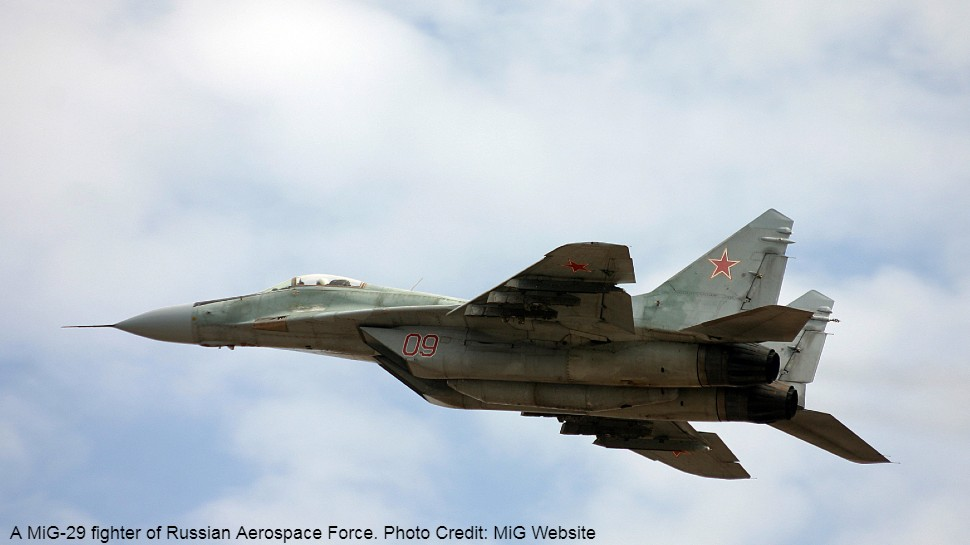Mig-29: (40, 160, 903, 505)
